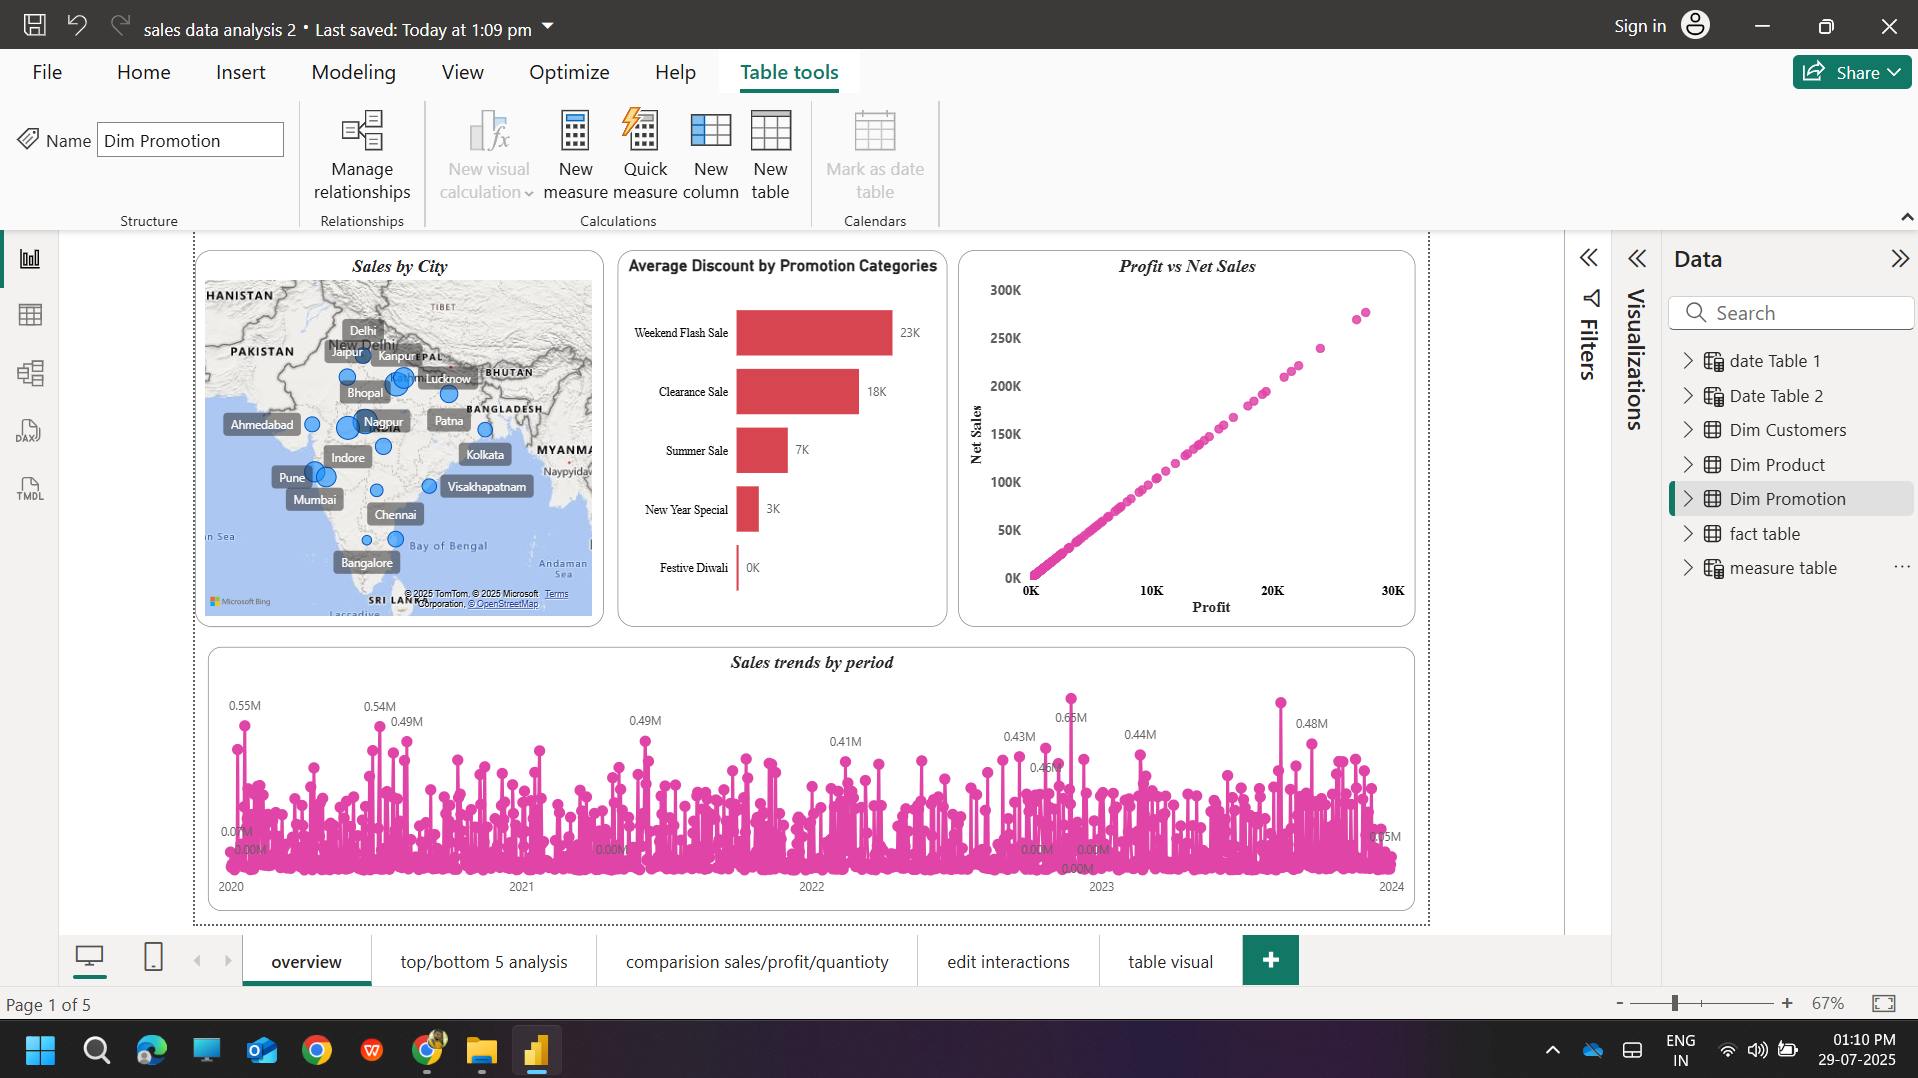

This screenshot's page, from the dashboard's own definition file:
{"tool":"powerbi","page":{"name":"overview","canvas":[1280,720],"ordinal":0},"visuals":[{"type":"lineChart","title":"Sales trends by period","fields":{"Y":["fact table.Net Sales "],"Category":["fact table.Date (dd/mm/yyyy).Variation.Date Hierarchy.Year"]},"box":[14,432.7,1252.8,274],"z":0},{"type":"scatterChart","title":"Profit vs  Net Sales ","fields":{"X":["fact table.Profit"],"Y":["fact table.Net Sales "]},"box":[792.2,20.9,474.6,390.9],"z":1000},{"type":"barChart","title":"Average Discount by Promotion Categories","fields":{"Y":["fact table.Discount"],"Category":["Dim Promotion.Promotion Name"]},"box":[438,20.9,342,390.9],"z":2000},{"type":"map","title":"Sales  by City","fields":{"Category":["Dim Customers.City"],"Size":["fact table.Net Sales "]},"box":[0,20.9,424,390.9],"z":3000}]}

Visuals, with their boxes on the page's 1280x720 design canvas (x1, y1, x2, y2). These are canvas units, not pixel positions in the 1918x1078 screenshot, which may show the page scaled, cropped or inside an application window:
"Sales trends by period" lineChart: (14,433,1267,707)
"Profit vs  Net Sales " scatterChart: (792,21,1267,412)
"Average Discount by Promotion Categories" barChart: (438,21,780,412)
"Sales  by City" map: (0,21,424,412)
